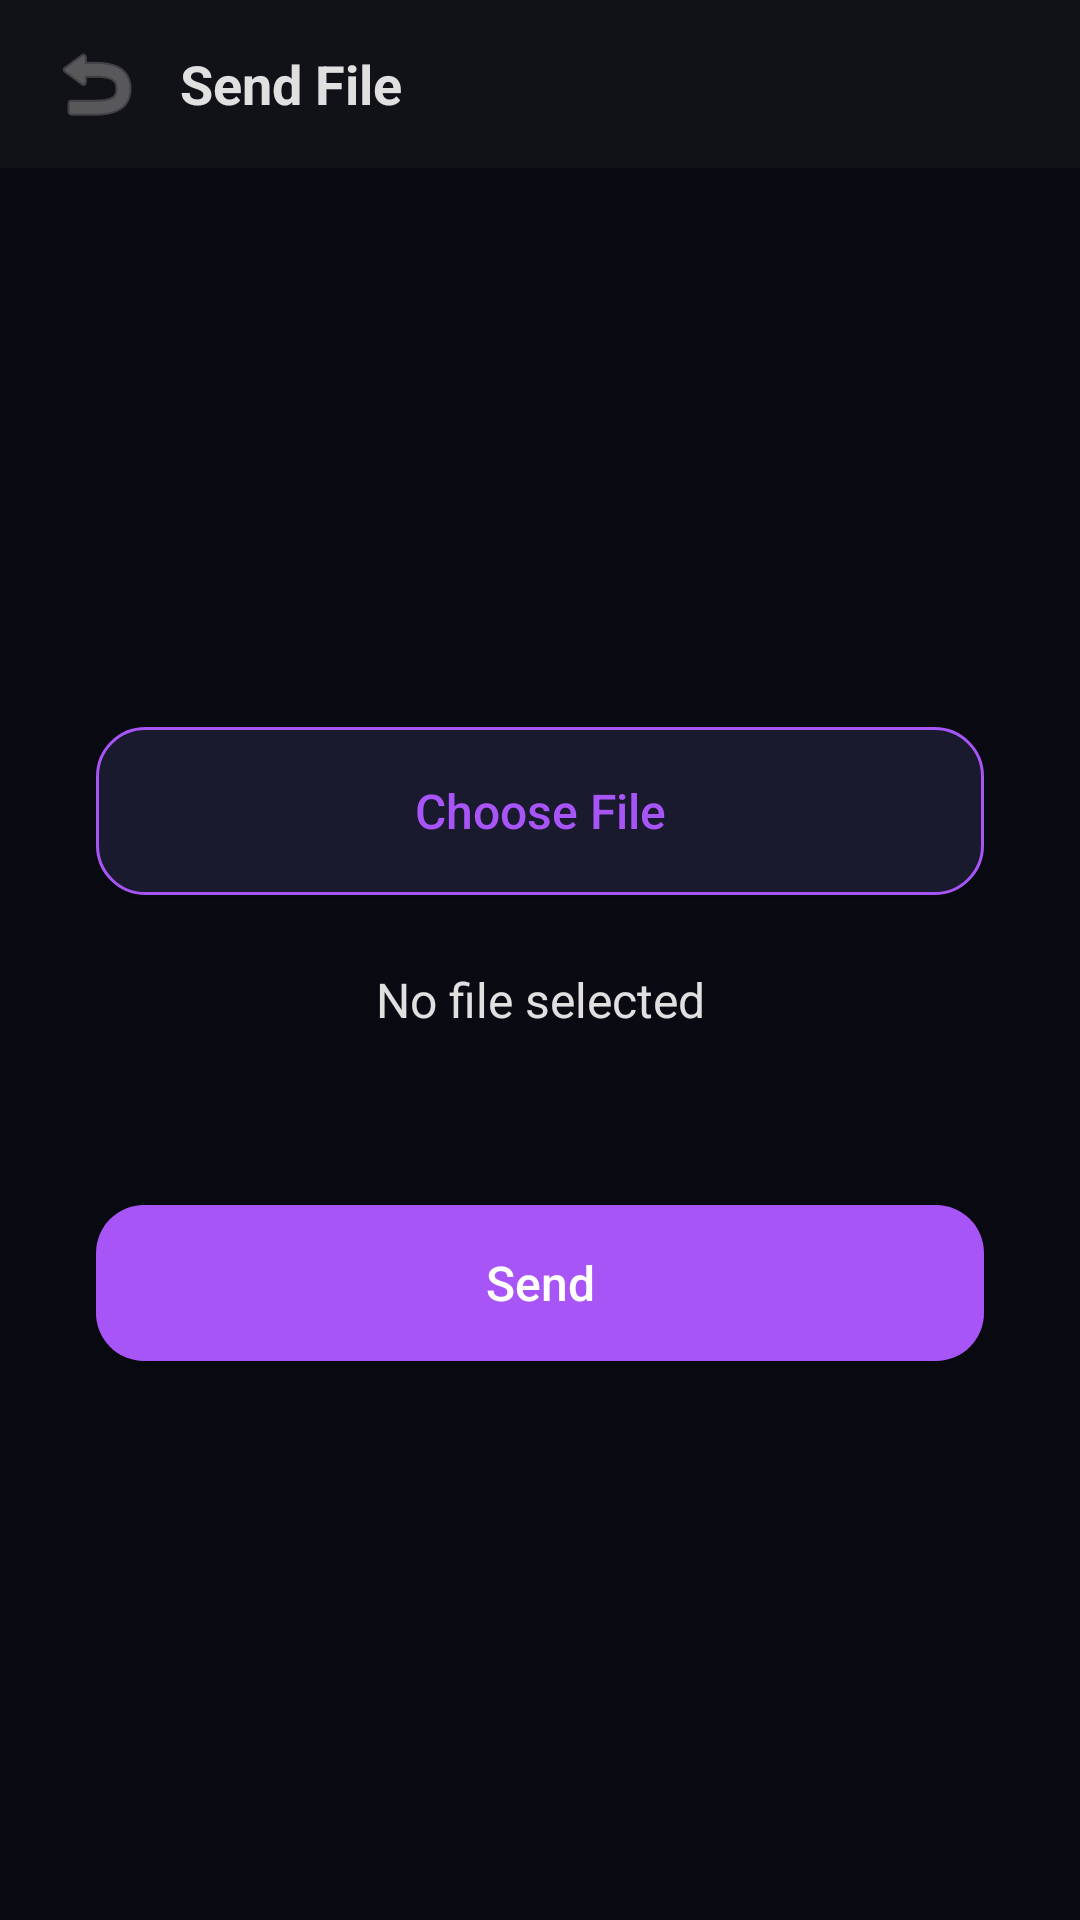

Locate icon controls on the screen. Image size 1080 x 1920, boxes as {"left": x1, "top": y1, "right": x2, "bottom": y2}.
Back: {"left": 63, "top": 54, "right": 132, "bottom": 116}
